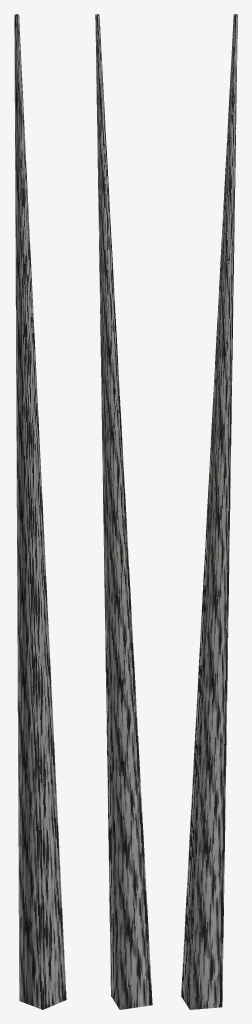
Rendered from fir_slim_bark_l2.gltf.
3 views of the same model, side by side, from view 1: azimuth 90°, elevation 25°; view 2: azimuth 150°, elevation 25°; view 3: azimuth 330°, elevation 25° (orthographic).
Visible parts, largest first — view 1: fir_slim_bark_l2; view 2: fir_slim_bark_l2; view 3: fir_slim_bark_l2.
Part boxes in pixels (left/top/right/bottom): fir_slim_bark_l2: left=14, top=14, right=66, bottom=1009; fir_slim_bark_l2: left=95, top=14, right=152, bottom=1009; fir_slim_bark_l2: left=181, top=14, right=237, bottom=1009.
Bounding box in the file's own units: 0.6962 × 15.01 × 0.7275.
Materials: 1 (1 with a texture image).
